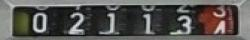digits: (67, 11, 85, 34), (176, 15, 194, 35), (31, 12, 48, 32), (141, 13, 153, 34), (213, 19, 227, 36), (107, 12, 116, 34)
